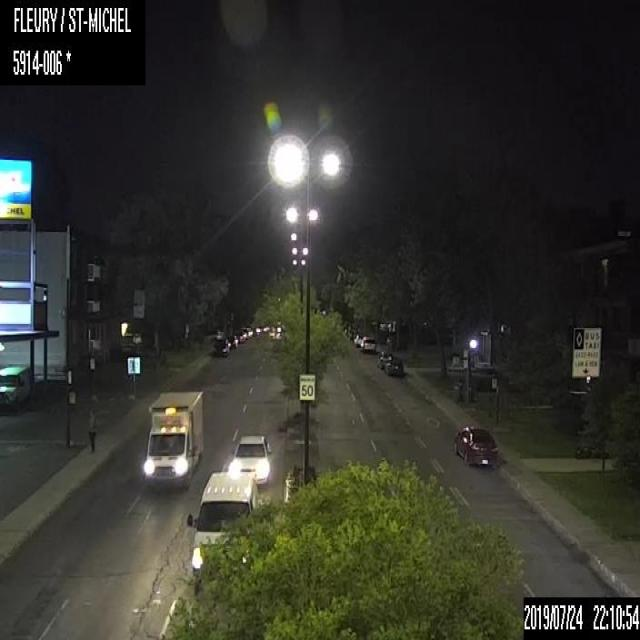pedestrian: (86, 407, 96, 453)
vehicle: (188, 472, 264, 572), (139, 388, 204, 488), (226, 432, 271, 488), (451, 421, 498, 467), (0, 365, 29, 407), (384, 356, 404, 378), (213, 340, 228, 357), (361, 338, 377, 352), (377, 350, 389, 368), (353, 332, 366, 348), (226, 333, 238, 349)
